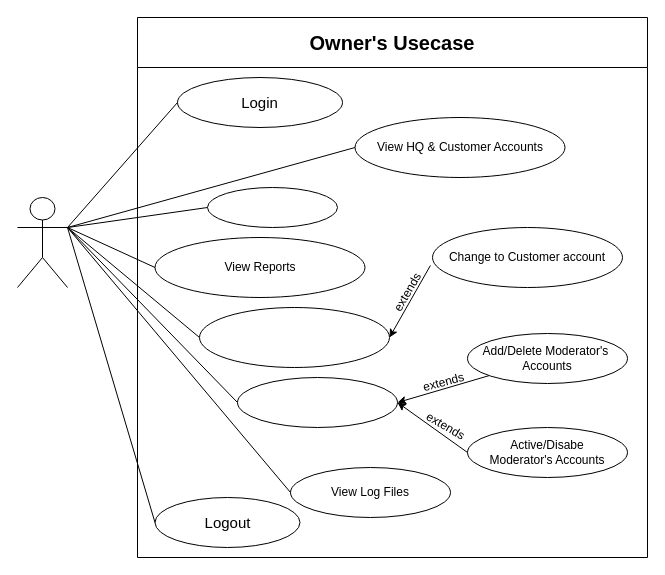
This 665x575 diagram has some shape labels left out. The centre of each missing label's shape, as x and y in pixels:
"Edit Profile" belongs at [294,337].
"Manage Moderator's Accounts" belongs at [317,402].
"Owner" belongs at [42,242].
"View Requests" belongs at [272,207].
